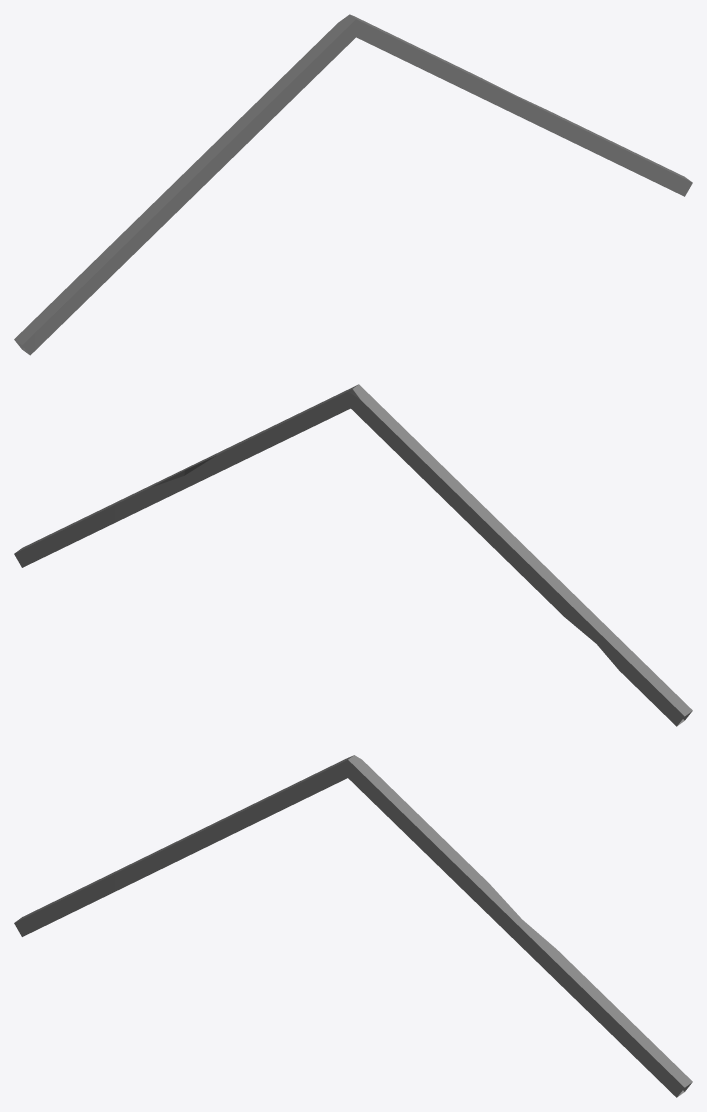
File: builder_15.FBX
3 views of the same model, one above another, from view 1: azimuth 30°, elevation 25°; view 2: azimuth 150°, elevation 25°; view 3: azimuth 330°, elevation 25° (orthographic).
Parts seen in each view (by area): view 1: builder_15; view 2: builder_15; view 3: builder_15.
Boxes of the visible parts, x1,y1,x2,y2 form: builder_15: (14, 14, 692, 355); builder_15: (14, 384, 692, 726); builder_15: (14, 755, 692, 1097).
Bounding box in the file's own units: 256 × 94.08 × 5.4.
